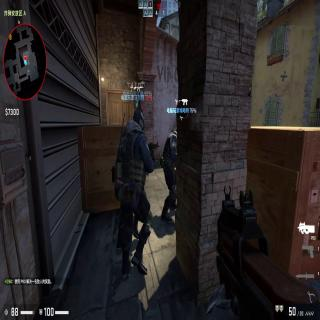CT-Head: (134, 109, 145, 129)
